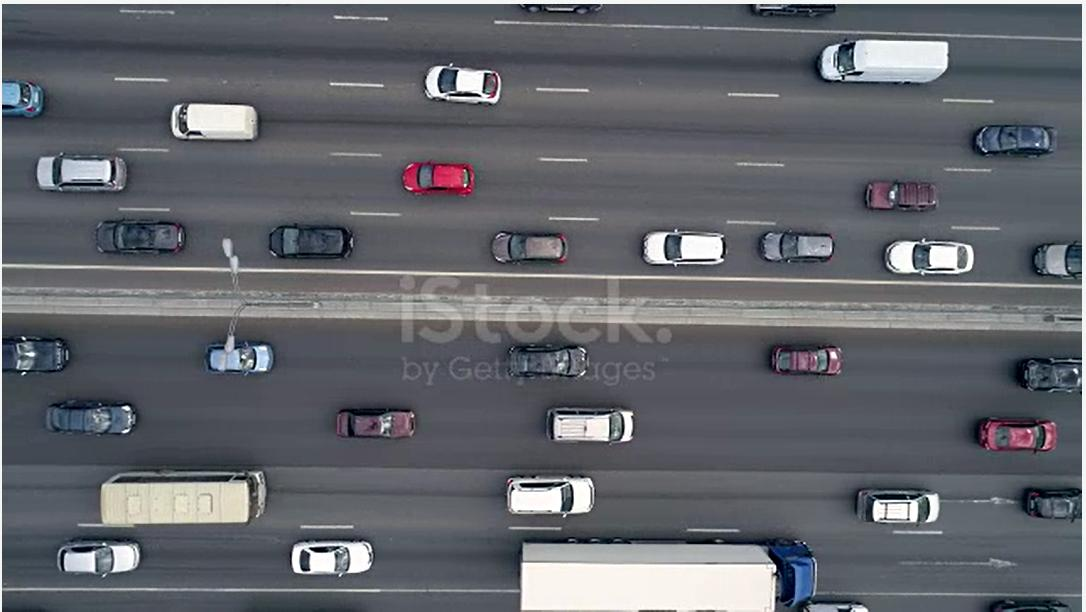bus: (85, 457, 294, 542)
car: (157, 73, 286, 170), (803, 33, 970, 100), (625, 213, 766, 285), (395, 45, 538, 109), (25, 389, 166, 453), (469, 459, 610, 521), (43, 523, 166, 592), (91, 205, 205, 277), (241, 217, 378, 276), (0, 315, 100, 393), (841, 475, 970, 530), (961, 401, 1069, 465), (747, 337, 876, 390), (845, 173, 958, 230), (477, 229, 592, 282), (542, 395, 640, 456), (1003, 331, 1086, 402), (999, 476, 1086, 543), (29, 149, 151, 196), (321, 393, 414, 453), (877, 233, 979, 285), (377, 147, 480, 198), (505, 337, 604, 388), (267, 542, 405, 577), (205, 341, 303, 389), (961, 109, 1047, 162), (0, 72, 64, 126), (752, 225, 843, 261), (1029, 225, 1084, 277)
truck: (499, 515, 843, 612)
